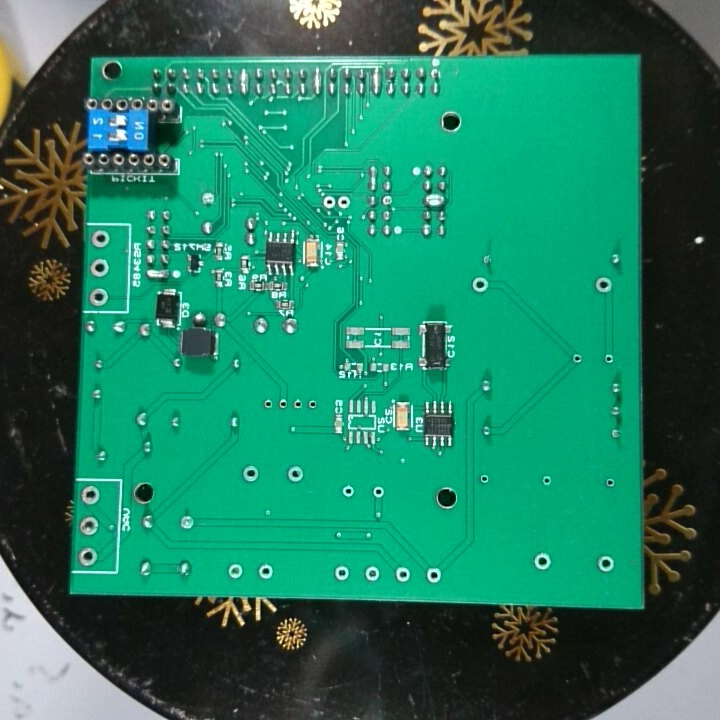F: (530, 548, 556, 575), (593, 550, 619, 577), (85, 284, 113, 309), (87, 254, 113, 280), (470, 273, 496, 298), (79, 482, 103, 509), (76, 513, 100, 539), (89, 226, 113, 251), (592, 272, 616, 296), (240, 462, 264, 486), (177, 512, 201, 535), (76, 543, 100, 566), (423, 563, 445, 586), (283, 462, 305, 485), (361, 563, 384, 583), (225, 560, 246, 581), (256, 561, 276, 583), (332, 563, 352, 584), (393, 564, 411, 584), (539, 470, 556, 491), (339, 481, 357, 500), (199, 189, 216, 208), (337, 192, 352, 213), (602, 475, 619, 493), (369, 483, 387, 500), (480, 250, 496, 269), (320, 193, 336, 212), (427, 66, 444, 83), (569, 349, 584, 368), (379, 193, 396, 209), (305, 398, 321, 414), (261, 396, 276, 413), (609, 426, 625, 441), (478, 470, 491, 488), (276, 396, 290, 412), (601, 350, 614, 366), (292, 397, 305, 411)
P: (309, 63, 324, 100), (370, 65, 383, 100), (422, 192, 448, 208), (238, 66, 250, 100), (144, 266, 173, 280), (367, 163, 380, 192)
